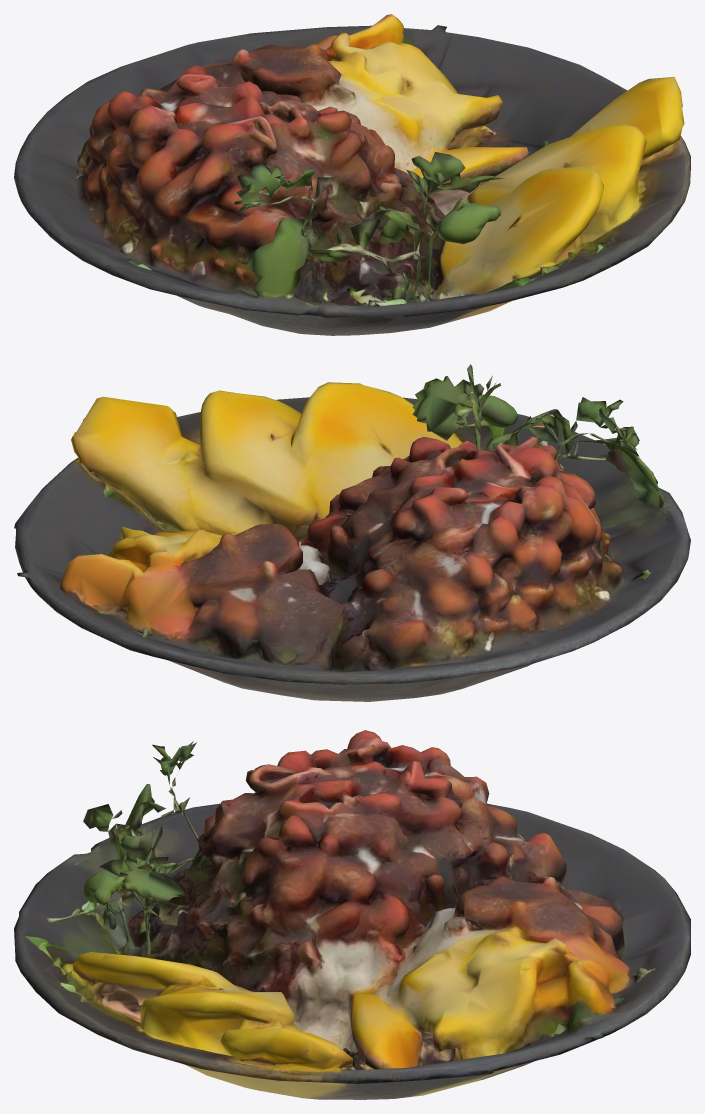
Rendered from plato-tipico.glb.
3 views of the same model, one above another, from view 1: azimuth 30°, elevation 25°; view 2: azimuth 150°, elevation 25°; view 3: azimuth 270°, elevation 25° (orthographic).
Bounding box in the file's own units: 2 × 0.6203 × 1.99.
Materials: 1 (1 with a texture image).
